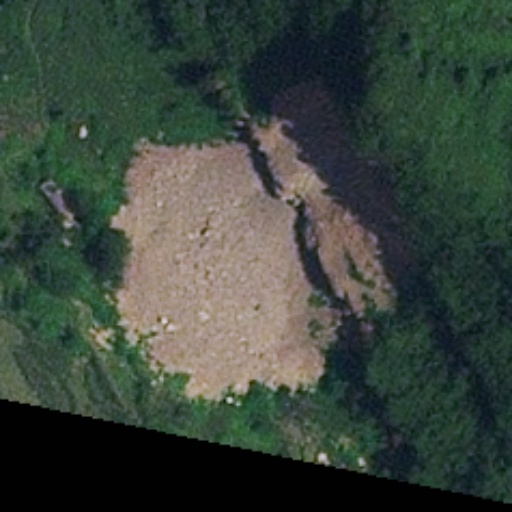landslide: (111, 131, 396, 399)
